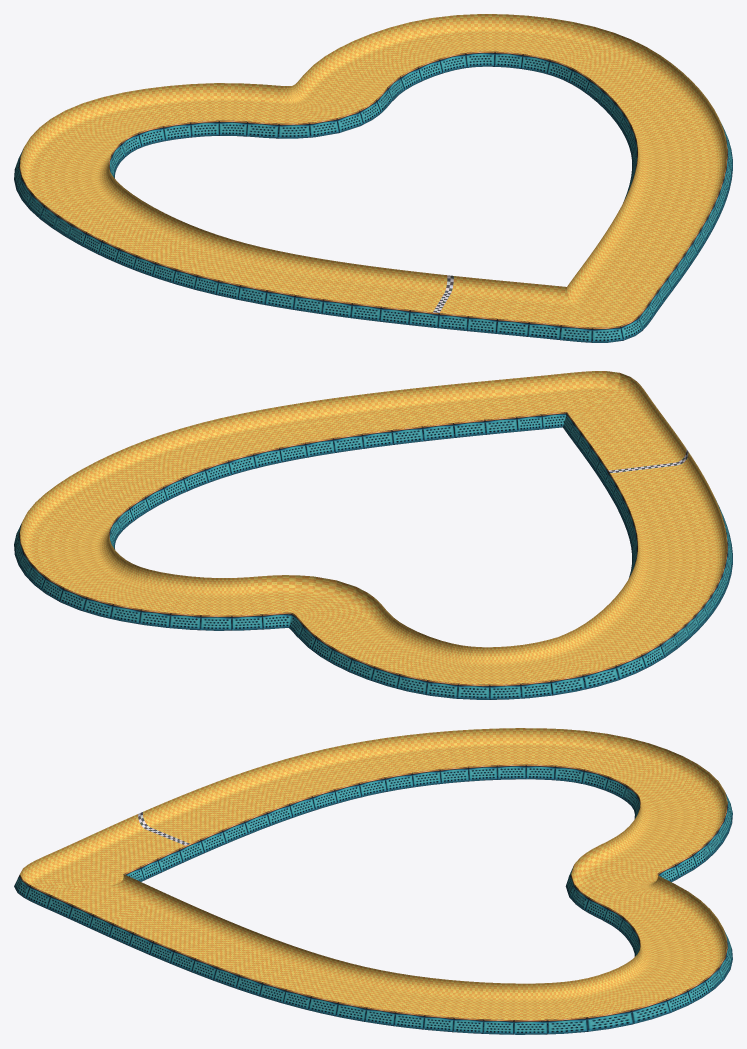
3 views of the same model, one above another, from view 1: azimuth 30°, elevation 25°; view 2: azimuth 150°, elevation 25°; view 3: azimuth 270°, elevation 25° (orthographic). The views are drawn at different scales.
Parts seen in each view (by area): view 1: model-COM-MOT_STAGE134-54409-1_Apng, model-COM-MOT_STAGE134-54409-1_Bpng, model-COM-MOT_STAGE134-54409-1_3png, model-COM-MOT_STAGE134-54409-1_1png, model-COM-MOT_STAGE134-54409-1_6png, model-COM-MOT_STAGE134-54409-1_7png, model-COM-MOT_STAGE134-54409-1_4png, model-COM-MOT_STAGE134-54409-1_Cpng, model-COM-MOT_STAGE134-54409-1_5png, model-COM-MOT_STAGE134-54409-1_9png, model-COM-MOT_STAGE134-54409-1_Dpng, model-COM-MOT_STAGE134-54409-1_8png (+16 smaller); view 2: model-COM-MOT_STAGE134-54409-1_6png, model-COM-MOT_STAGE134-54409-1_Bpng, model-COM-MOT_STAGE134-54409-1_3png, model-COM-MOT_STAGE134-54409-1_Apng, model-COM-MOT_STAGE134-54409-1_1png, model-COM-MOT_STAGE134-54409-1_2png, model-COM-MOT_STAGE134-54409-1_Cpng, model-COM-MOT_STAGE134-54409-1_Dpng, model-COM-MOT_STAGE134-54409-1_8png, model-COM-MOT_STAGE134-54409-1_0png, model-COM-MOT_STAGE134-54409-1_7png, model-COM-MOT_STAGE134-54409-1_4png (+15 smaller); view 3: model-COM-MOT_STAGE134-54409-1_3png, model-COM-MOT_STAGE134-54409-1_1png, model-COM-MOT_STAGE134-54409-1_6png, model-COM-MOT_STAGE134-54409-1_Bpng, model-COM-MOT_STAGE134-54409-1_Apng, model-COM-MOT_STAGE134-54409-1_7png, model-COM-MOT_STAGE134-54409-1_4png, model-COM-MOT_STAGE134-54409-1_8png, model-COM-MOT_STAGE134-54409-1_Cpng, model-COM-MOT_STAGE134-54409-1_0png, model-COM-MOT_STAGE134-54409-1_Dpng, model-COM-MOT_STAGE134-54409-1_2png (+16 smaller).
Boxes of the visible parts, x1=… form: model-COM-MOT_STAGE134-54409-1_Apng: x1=532, y1=18, x2=692, y2=106; model-COM-MOT_STAGE134-54409-1_Bpng: x1=620, y1=81, x2=726, y2=178; model-COM-MOT_STAGE134-54409-1_3png: x1=98, y1=207, x2=279, y2=287; model-COM-MOT_STAGE134-54409-1_1png: x1=20, y1=147, x2=153, y2=237; model-COM-MOT_STAGE134-54409-1_6png: x1=504, y1=267, x2=657, y2=327; model-COM-MOT_STAGE134-54409-1_7png: x1=304, y1=22, x2=439, y2=98; model-COM-MOT_STAGE134-54409-1_4png: x1=24, y1=92, x2=149, y2=166; model-COM-MOT_STAGE134-54409-1_Cpng: x1=581, y1=215, x2=696, y2=288; model-COM-MOT_STAGE134-54409-1_5png: x1=123, y1=83, x2=262, y2=128; model-COM-MOT_STAGE134-54409-1_9png: x1=410, y1=14, x2=550, y2=58; model-COM-MOT_STAGE134-54409-1_Dpng: x1=617, y1=166, x2=723, y2=234; model-COM-MOT_STAGE134-54409-1_8png: x1=253, y1=251, x2=392, y2=305; model-COM-MOT_STAGE134-54409-1_6png: x1=497, y1=371, x2=666, y2=443; model-COM-MOT_STAGE134-54409-1_Bpng: x1=82, y1=414, x2=267, y2=499; model-COM-MOT_STAGE134-54409-1_3png: x1=610, y1=535, x2=726, y2=628; model-COM-MOT_STAGE134-54409-1_Apng: x1=20, y1=469, x2=138, y2=563; model-COM-MOT_STAGE134-54409-1_1png: x1=523, y1=603, x2=679, y2=681; model-COM-MOT_STAGE134-54409-1_2png: x1=247, y1=575, x2=387, y2=635; model-COM-MOT_STAGE134-54409-1_Cpng: x1=367, y1=380, x2=509, y2=430; model-COM-MOT_STAGE134-54409-1_Dpng: x1=240, y1=394, x2=383, y2=449; model-COM-MOT_STAGE134-54409-1_8png: x1=623, y1=476, x2=726, y2=547; model-COM-MOT_STAGE134-54409-1_0png: x1=590, y1=422, x2=703, y2=496; model-COM-MOT_STAGE134-54409-1_7png: x1=117, y1=569, x2=256, y2=615; model-COM-MOT_STAGE134-54409-1_4png: x1=405, y1=640, x2=541, y2=684; model-COM-MOT_STAGE134-54409-1_3png: x1=286, y1=729, x2=479, y2=792; model-COM-MOT_STAGE134-54409-1_1png: x1=472, y1=728, x2=666, y2=782; model-COM-MOT_STAGE134-54409-1_6png: x1=20, y1=834, x2=157, y2=920; model-COM-MOT_STAGE134-54409-1_Bpng: x1=300, y1=959, x2=483, y2=1018; model-COM-MOT_STAGE134-54409-1_Apng: x1=476, y1=972, x2=650, y2=1019; model-COM-MOT_STAGE134-54409-1_7png: x1=622, y1=884, x2=726, y2=959; model-COM-MOT_STAGE134-54409-1_4png: x1=622, y1=749, x2=727, y2=822; model-COM-MOT_STAGE134-54409-1_8png: x1=184, y1=759, x2=320, y2=826; model-COM-MOT_STAGE134-54409-1_Cpng: x1=109, y1=889, x2=244, y2=959; model-COM-MOT_STAGE134-54409-1_0png: x1=93, y1=794, x2=228, y2=865; model-COM-MOT_STAGE134-54409-1_Dpng: x1=200, y1=927, x2=334, y2=992; model-COM-MOT_STAGE134-54409-1_2png: x1=571, y1=841, x2=674, y2=915.
Size of the model in its own units: 26348 by 520 by 26966.
Materials: 31 (31 with a texture image).
